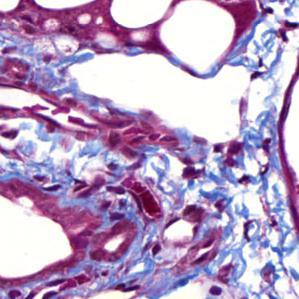steatosis: (166, 0, 232, 75)
